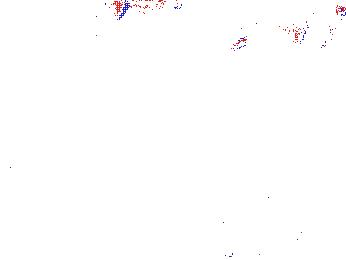glassfish: (220, 99, 324, 166)
red belly glassfish: (228, 19, 263, 53)
redtail glassfish: (282, 11, 346, 46), (113, 1, 186, 23), (48, 76, 105, 99)
